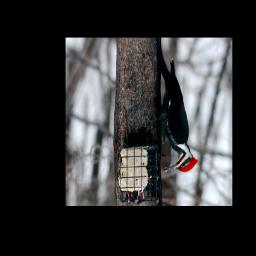Woodpecker: (144, 41, 198, 175)
